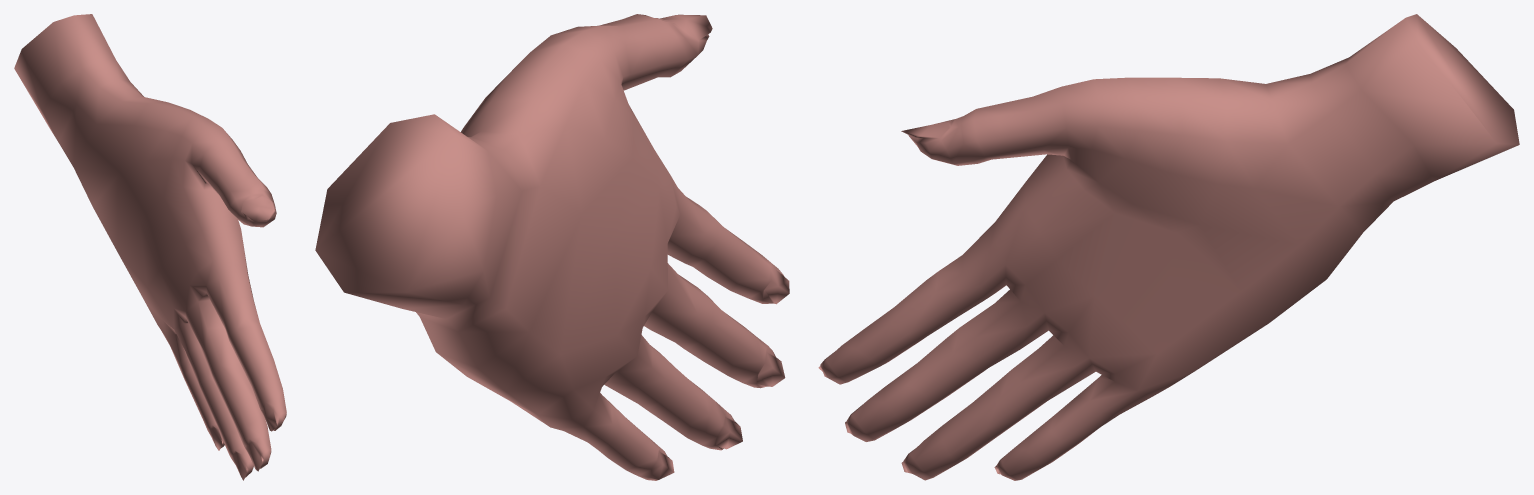
File: avatar_hands.glb
3 renders of one model, left to right at view 1: azimuth 30°, elevation 25°; view 2: azimuth 150°, elevation 25°; view 3: azimuth 270°, elevation 25°, orthographic. The views are drawn at different scales.
Visible parts, largest first — view 1: Body.003; view 2: Body.003; view 3: Body.003.
Part boxes in pixels (bbox=[...]): Body.003: bbox=[14, 14, 286, 480]; Body.003: bbox=[315, 14, 789, 480]; Body.003: bbox=[818, 14, 1519, 480].
Size of the model in its own units: 0.025 by 0.0948 by 0.13.
